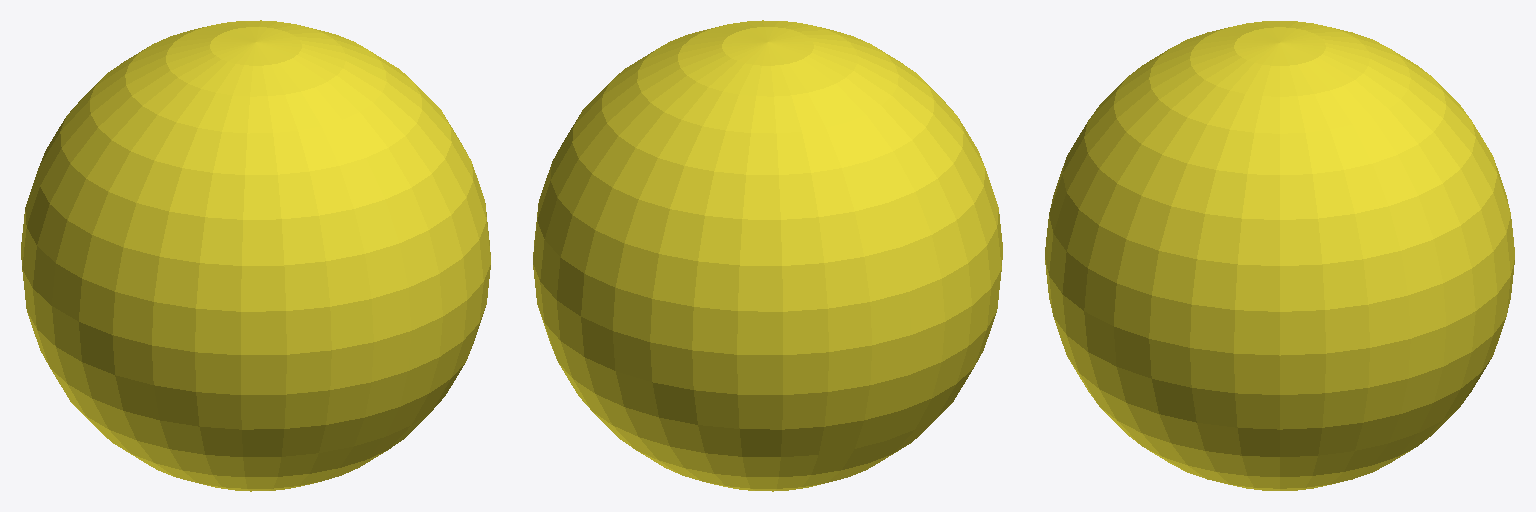
robot.urdf — origins:
<?xml version="1.0"?>
<robot name="origins">

    <link name="base">
        <inertial>
            <mass value="1."/>
        </inertial>
        <collision>
            <origin xyz="0 0 0.05"/>
            <geometry>
                <box size="0.5 0.5 0.1"/>
            </geometry>
        </collision>
    </link>

    <link name="tower">
        <inertial>
            <mass value="1."/>
        </inertial>
        <collision>
            <geometry>
                <box size="0.1 0.1 1.0"/>
            </geometry>
        </collision>
    </link>

    <joint name="rz" type="revolute">
        <parent link="base"/>
        <child link="tower"/>
        <origin xyz="0 0 0.5" rpy="0 0 1.5708"/>
        <axis xyz="0 0 1"/>
    </joint>

    <link name="jib">
        <inertial>
            <mass value="1.0"/>
        </inertial>
        <collision>
            <geometry>
                <box size="1.0 0.1 0.1"/>
            </geometry>
        </collision>
    </link>

    <joint name="tz" type="prismatic">
        <parent link="tower"/>
        <child link="jib"/>
        <origin xyz="0.3 0 0." rpy="0 0 0"/>
        <axis xyz="0 0 1"/>
    </joint>

    <link name="trolley">
        <inertial>
            <mass value="1.0"/>
        </inertial>
        <visual>
            <origin xyz="0 0 -0.17"/>
            <geometry>
                <sphere radius="0.14"/>
            </geometry>
        </visual>
        <collision>
            <origin xyz="0 0 -0.17"/>
            <geometry>
                <box size="0.15 0.15 0.2"/>
            </geometry>
        </collision>
    </link>

    <joint name="ty" type="prismatic">
        <parent link="jib"/>
        <child link="trolley"/>
        <origin xyz="0.2 0 0." rpy="0 0 0"/>
        <axis xyz="1 0 0"/>
    </joint>
</robot>

--- Facts derived from the render (not from the file) ---
Views: 3 orthographic renders of the robot side by side, from view 1: azimuth 30°, elevation 25°; view 2: azimuth 150°, elevation 25°; view 3: azimuth 270°, elevation 25°.
Model origins with 4 links and 3 joints (1 revolute, 2 prismatic), rooted at base, posed all joints at 0.
Visible links, largest first — view 1: trolley; view 2: trolley; view 3: trolley.
Link boxes in pixels (<box>): trolley: <box>21,20,490,491</box>; trolley: <box>533,20,1002,491</box>; trolley: <box>1045,21,1514,490</box>.
Size in the robot's own frame: 0.28 by 0.28 by 0.28 metres.
Geometry: primitives only (box / cylinder / sphere), no mesh files.